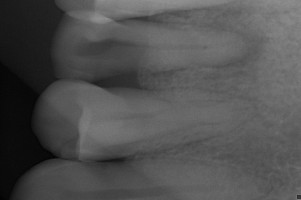Furcation Involvement: (212, 26, 268, 67)
